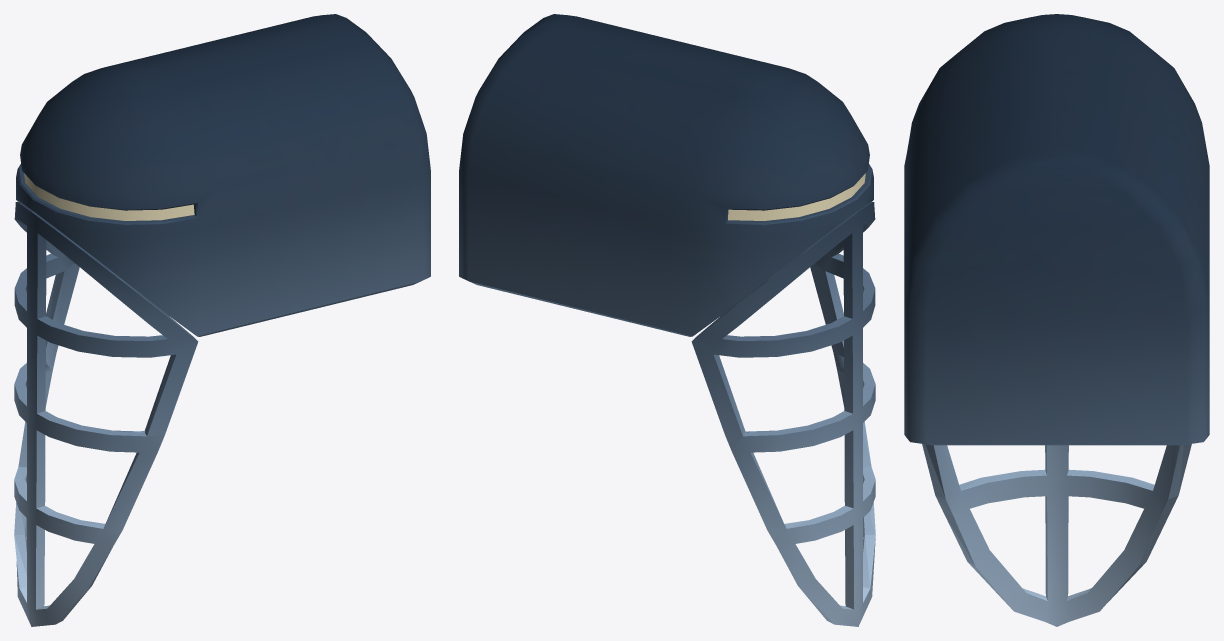
The model's file is ENV_Building_02.FBX.
The picture shows the model from 3 angles, left to right: view 1: azimuth 30°, elevation 25°; view 2: azimuth 150°, elevation 25°; view 3: azimuth 270°, elevation 25°; orthographic projection. The views are drawn at different scales.
Visible parts, largest first — view 1: ENV_Building_02; view 2: ENV_Building_02; view 3: ENV_Building_02.
Part boxes in pixels (x1,y1,x2,y2): ENV_Building_02: (14,14,430,626); ENV_Building_02: (459,14,875,626); ENV_Building_02: (904,14,1209,626).
Size of the model in its own units: 842 by 1229 by 516.
2 materials, 2 textured.
